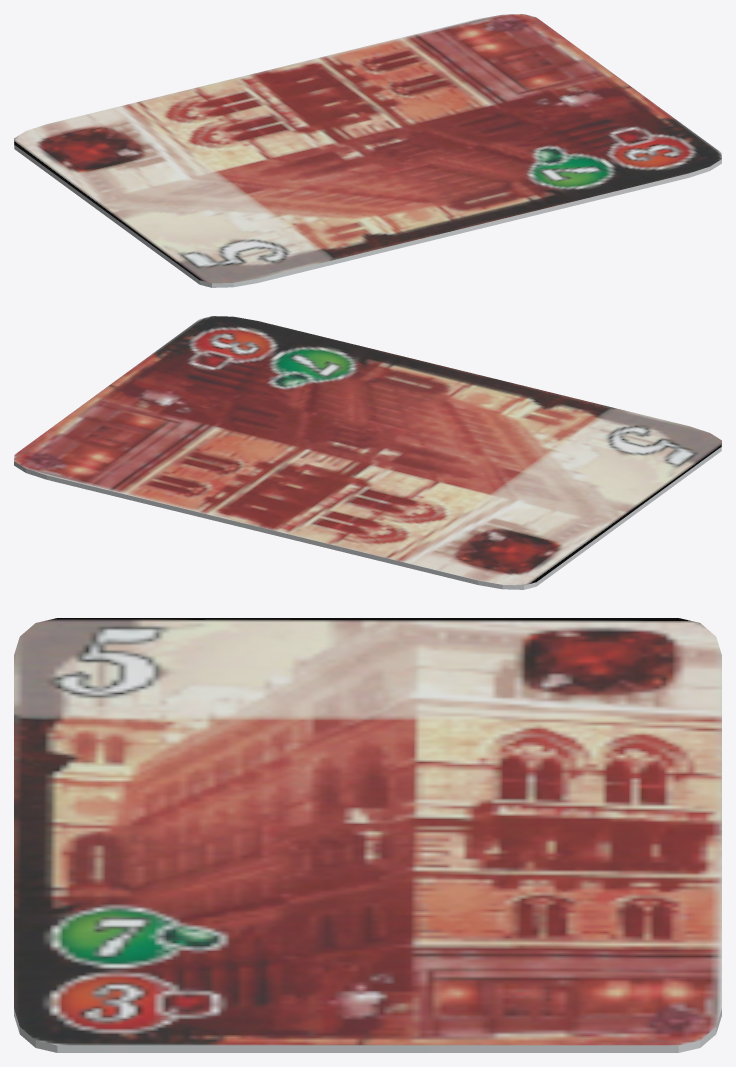
The picture shows the model from 3 angles, top to bottom: view 1: azimuth 30°, elevation 25°; view 2: azimuth 150°, elevation 25°; view 3: azimuth 270°, elevation 25°; orthographic projection. The views are drawn at different scales.
Visible parts, largest first — view 1: Card1; view 2: Card1; view 3: Card1.
Boxes of the visible parts, x1,y1,x2,y2 form: Card1: (14,14,721,287); Card1: (14,316,721,589); Card1: (14,618,721,1052).
Bounding box in the file's own units: 700 × 5.74 × 490.
